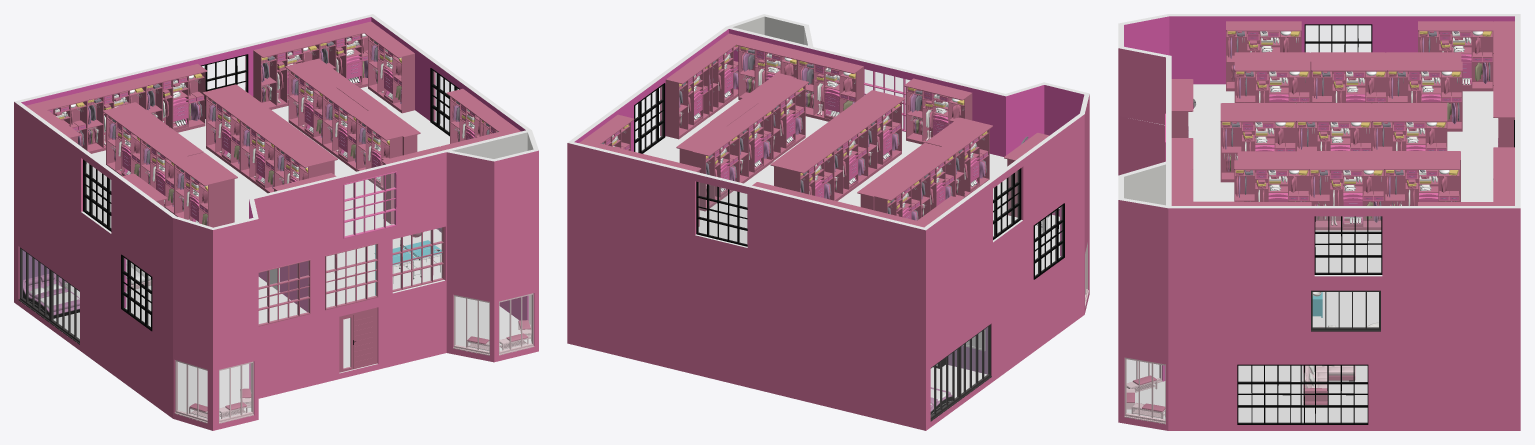
File: barbie_house 2.glb
3 views of the same model, side by side, from view 1: azimuth 30°, elevation 25°; view 2: azimuth 150°, elevation 25°; view 3: azimuth 270°, elevation 25° (orthographic). The views are drawn at different scales.
Parts seen in each view (by area): view 1: Object_95, Object_31, Object_40, Object_16, Object_97, Object_36, Object_20, Object_26, Object_39, Object_30, Object_29, Object_37 (+7 smaller); view 2: Object_95, Object_31, Object_97, Object_40, Object_16, Object_26, Object_36, Object_20, Object_29, Object_30, Object_13, Object_44 (+4 smaller); view 3: Object_95, Object_31, Object_16, Object_40, Object_97, Object_20, Object_26, Object_36, Object_39, Object_35, Object_32, Object_13 (+8 smaller).
Part boxes in pixels (<box>): Object_95: <box>14,56,538,430</box>; Object_31: <box>26,21,530,412</box>; Object_40: <box>22,56,531,419</box>; Object_16: <box>53,86,531,419</box>; Object_97: <box>21,17,528,389</box>; Object_36: <box>48,35,495,286</box>; Object_20: <box>14,14,538,229</box>; Object_26: <box>23,54,459,344</box>; Object_39: <box>104,91,534,423</box>; Object_30: <box>23,37,494,315</box>; Object_29: <box>18,247,79,344</box>; Object_37: <box>64,41,473,291</box>; Object_95: <box>567,86,1089,430</box>; Object_31: <box>579,33,1049,244</box>; Object_97: <box>574,29,1084,256</box>; Object_40: <box>635,69,1062,415</box>; Object_16: <box>643,96,1060,397</box>; Object_26: <box>634,83,1064,415</box>; Object_36: <box>606,49,987,219</box>; Object_20: <box>567,14,1089,230</box>; Object_29: <box>930,324,991,421</box>; Object_30: <box>607,50,986,411</box>; Object_13: <box>733,16,807,45</box>; Object_44: <box>679,54,1059,227</box>; Object_95: <box>1118,48,1520,430</box>; Object_31: <box>1126,21,1514,411</box>; Object_16: <box>1126,84,1498,422</box>; Object_40: <box>1126,25,1380,423</box>; Object_97: <box>1124,16,1514,381</box>; Object_20: <box>1118,14,1520,208</box>; Object_26: <box>1237,24,1514,424</box>; Object_36: <box>1165,31,1492,224</box>; Object_39: <box>1124,216,1354,424</box>; Object_35: <box>1222,31,1491,186</box>; Object_32: <box>1222,31,1462,188</box>; Object_13: <box>1124,164,1165,205</box>.
Bounding box in the file's own units: 16.64 × 8.85 × 14.49.
